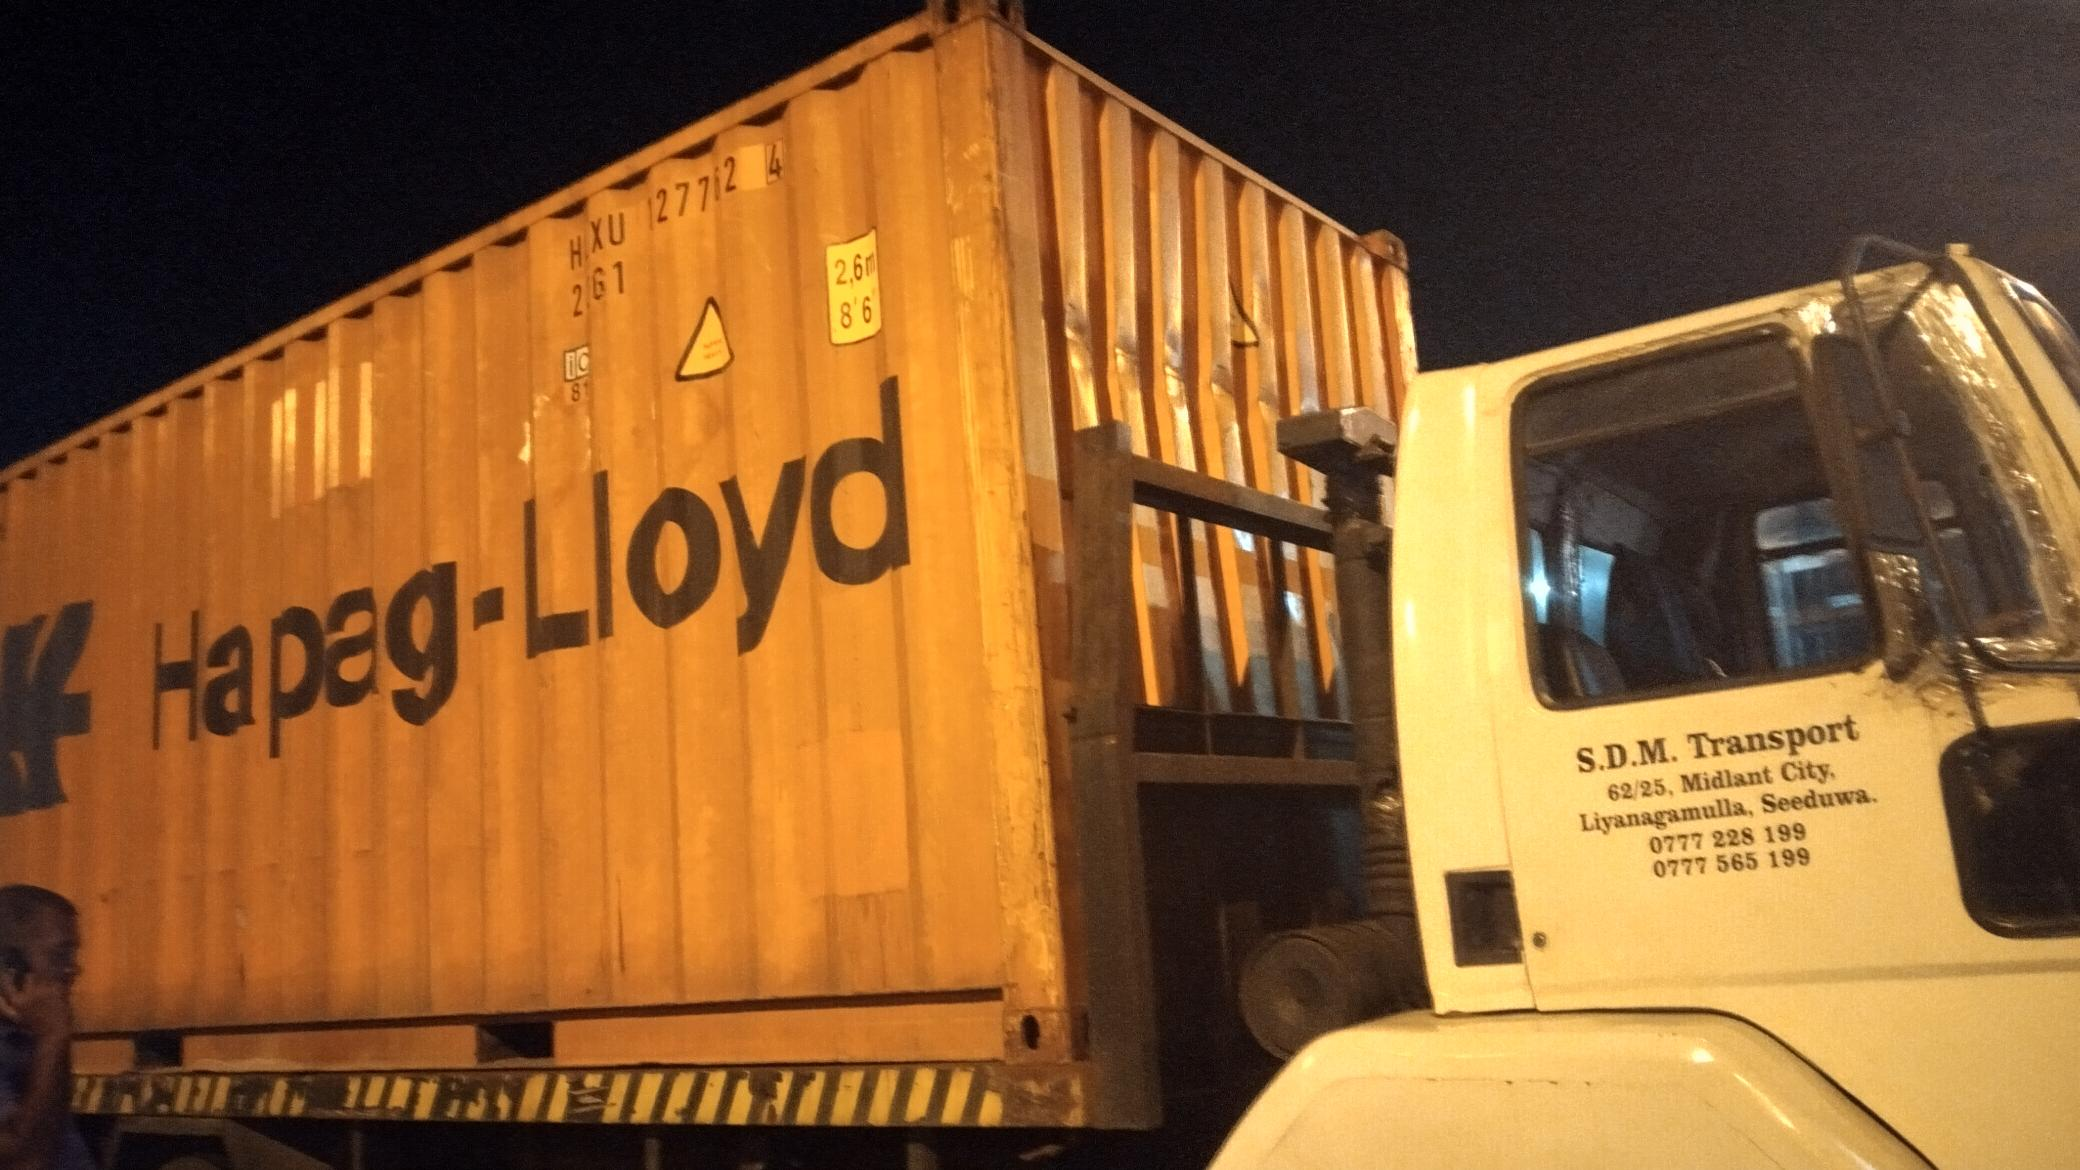moderate: (1014, 239, 1321, 426)
